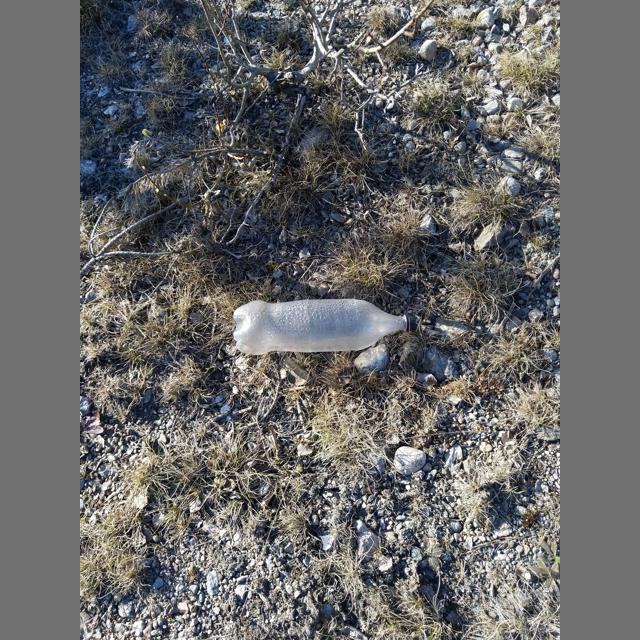litter: (233, 299, 416, 355), (408, 315, 416, 331)
